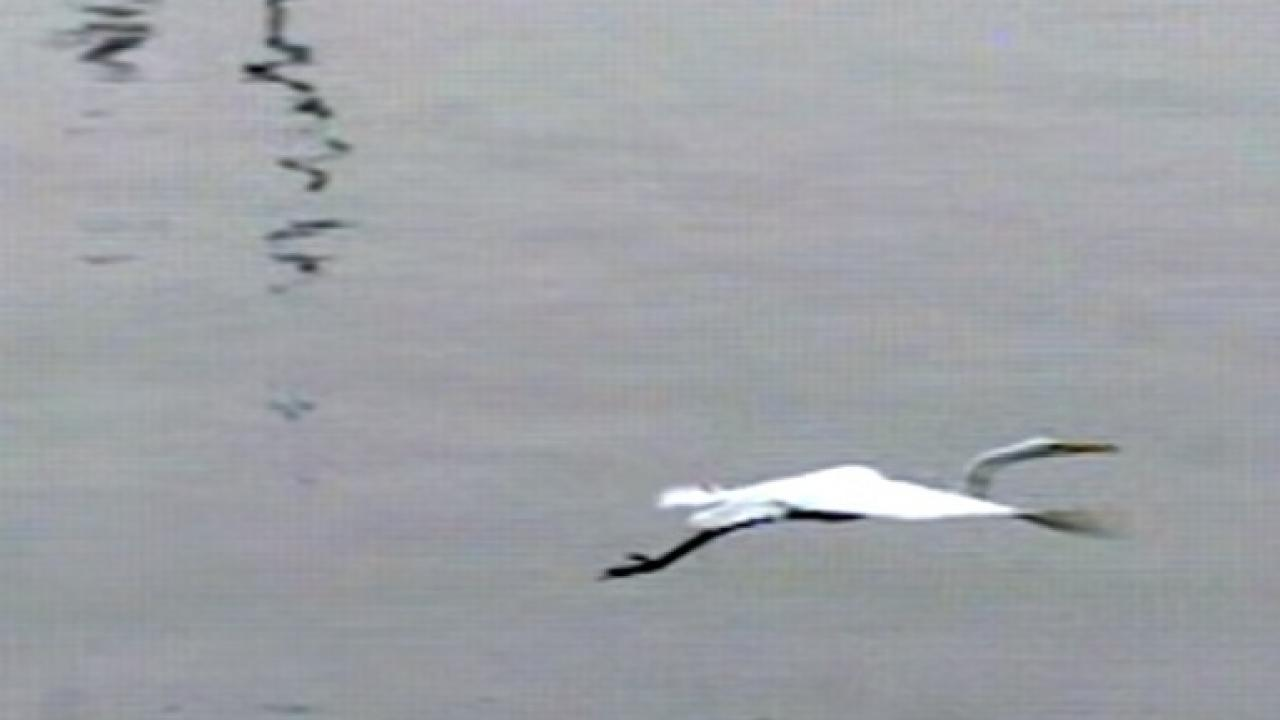Bird: (585, 423, 1160, 602)
